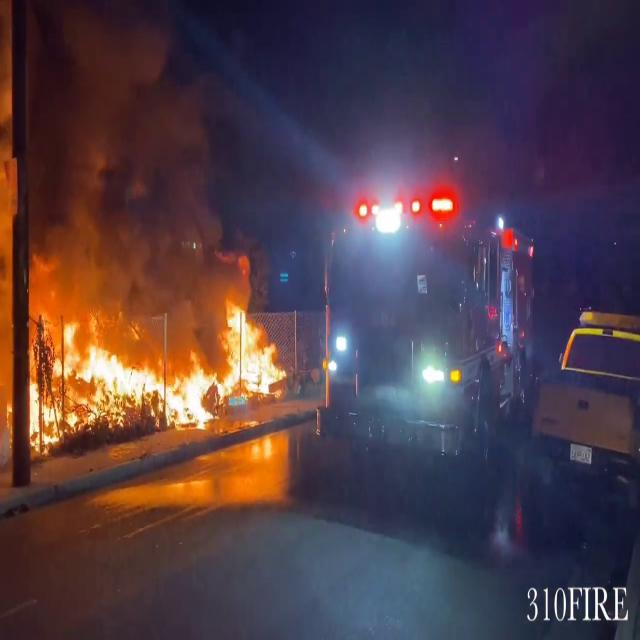Fire: (24, 295, 288, 439)
Smoke: (7, 0, 249, 306)
